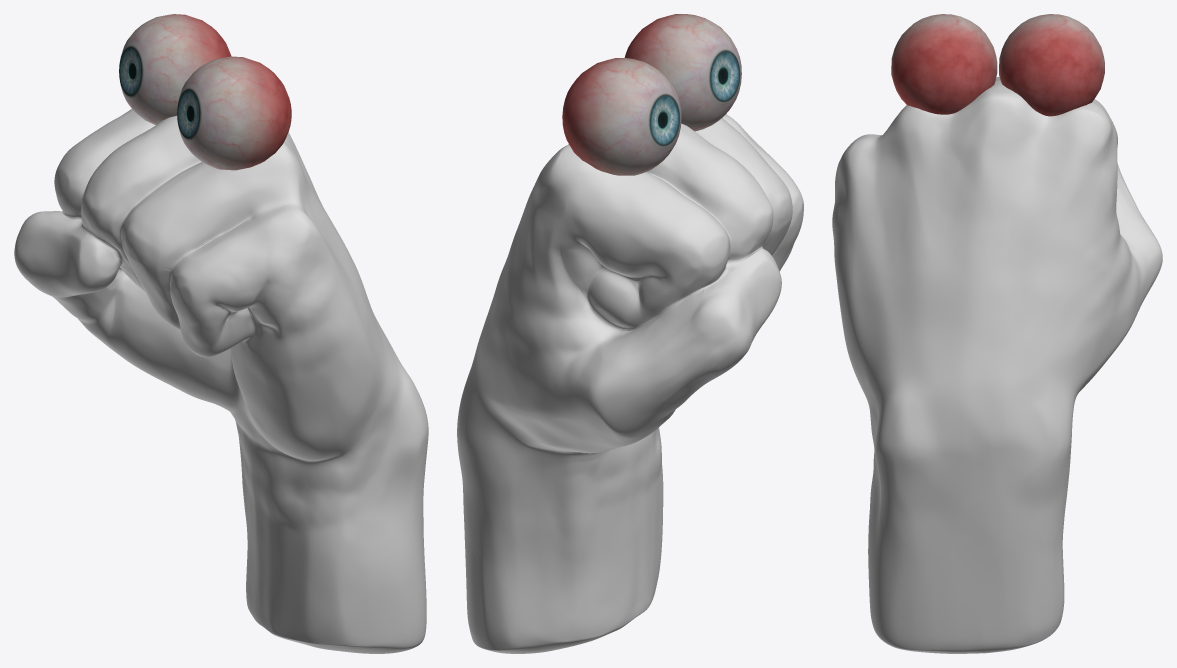
The model's file is eyeTest.glb.
The picture shows the model from 3 angles, left to right: view 1: azimuth 30°, elevation 25°; view 2: azimuth 150°, elevation 25°; view 3: azimuth 270°, elevation 25°; orthographic projection. The views are drawn at different scales.
Visible parts, largest first — view 1: ztl_fist_v2, Sclera, Sclera.001; view 2: ztl_fist_v2, Sclera.001, Sclera; view 3: ztl_fist_v2, Sclera, Sclera.001.
Part boxes in pixels (left/top/right/bottom): ztl_fist_v2: left=14, top=109, right=428, bottom=653; Sclera: left=177, top=56, right=291, bottom=170; Sclera.001: left=119, top=14, right=231, bottom=124; ztl_fist_v2: left=457, top=114, right=803, bottom=653; Sclera.001: left=562, top=58, right=681, bottom=175; Sclera: left=624, top=14, right=741, bottom=131; ztl_fist_v2: left=832, top=77, right=1162, bottom=653; Sclera: left=891, top=14, right=997, bottom=114; Sclera.001: left=999, top=14, right=1104, bottom=116.
Size of what is drawn, in the model's own units: 8.84 by 16.55 by 8.72.
Materials: 2 (1 with a texture image).
